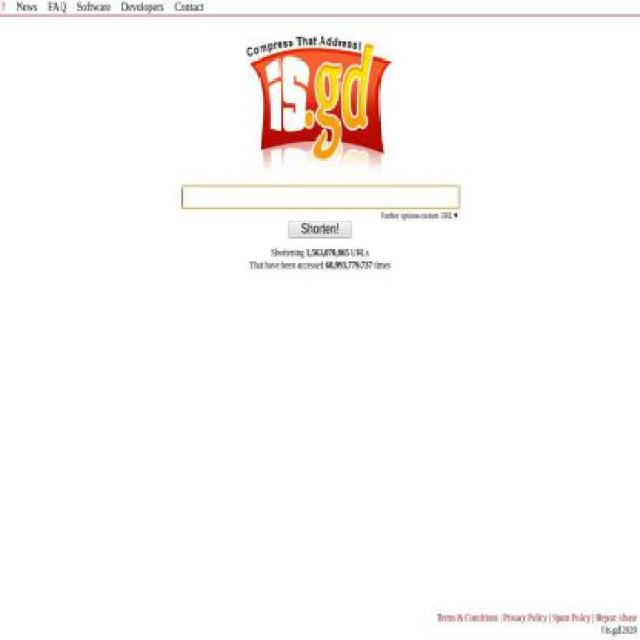field: (181, 186, 459, 208), (288, 220, 352, 238)
